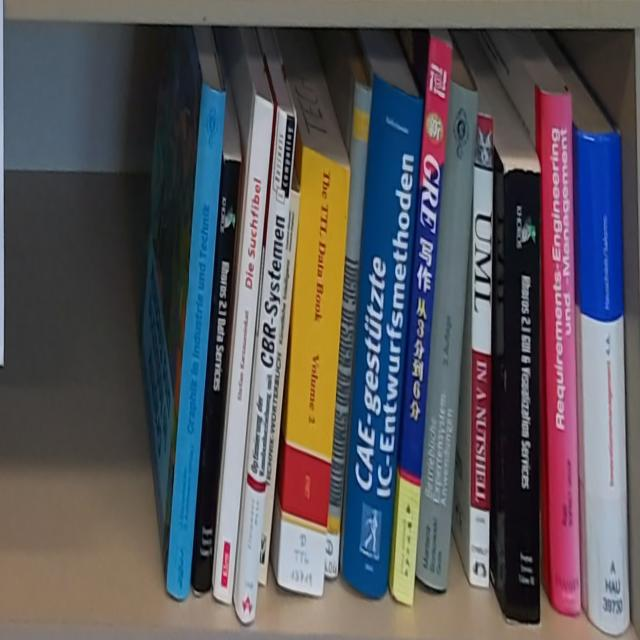Book Spine: (339, 77, 421, 600), (390, 35, 453, 609), (416, 76, 480, 595), (278, 144, 350, 600), (213, 89, 274, 611), (236, 110, 298, 623), (167, 81, 227, 605), (577, 125, 630, 637), (323, 83, 371, 582), (539, 81, 581, 616), (191, 155, 241, 602), (503, 169, 544, 629), (257, 187, 302, 590), (468, 115, 495, 591)
